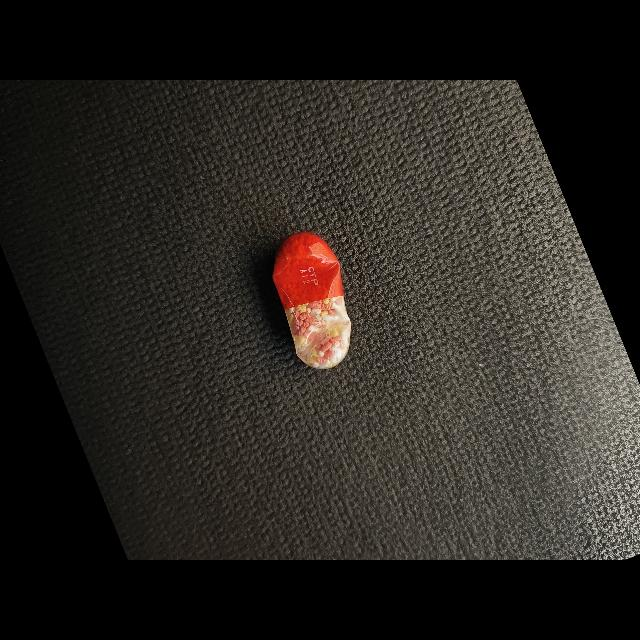Defective Capsule: (273, 232, 351, 370)
